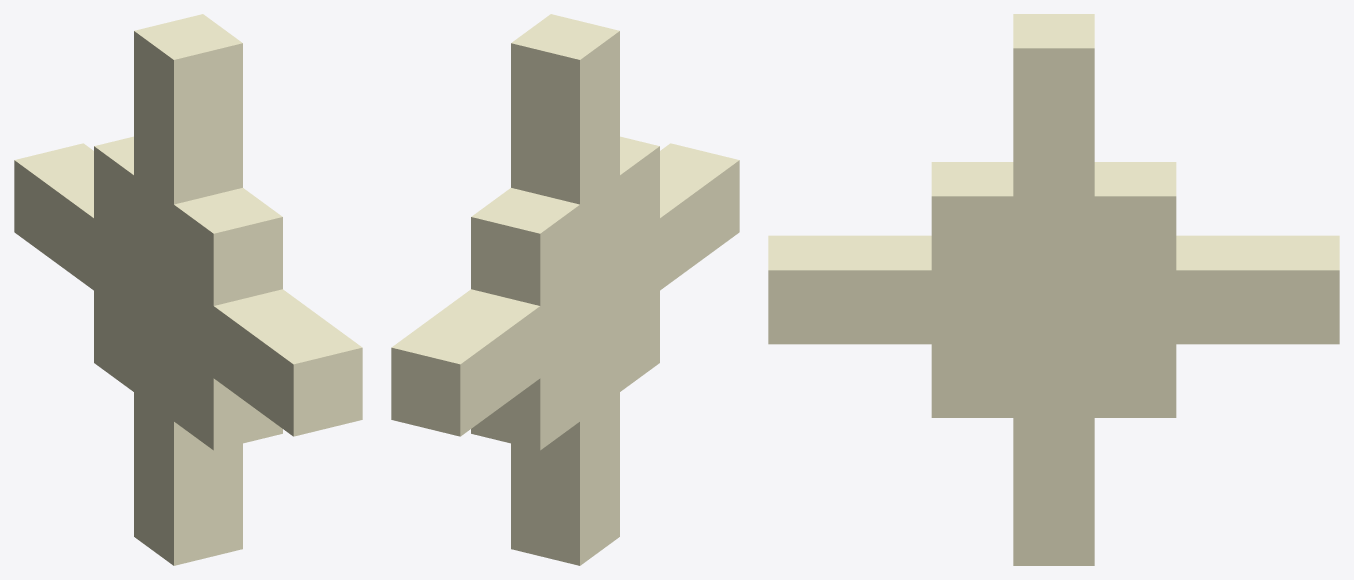
Rendered from estrelasflat-3.obj.
The picture shows the model from 3 angles, left to right: view 1: azimuth 30°, elevation 25°; view 2: azimuth 150°, elevation 25°; view 3: azimuth 270°, elevation 25°; orthographic projection. The views are drawn at different scales.
Bounding box in the file's own units: 0.1 × 0.7 × 0.7.
Materials: 1 (1 with a texture image).
